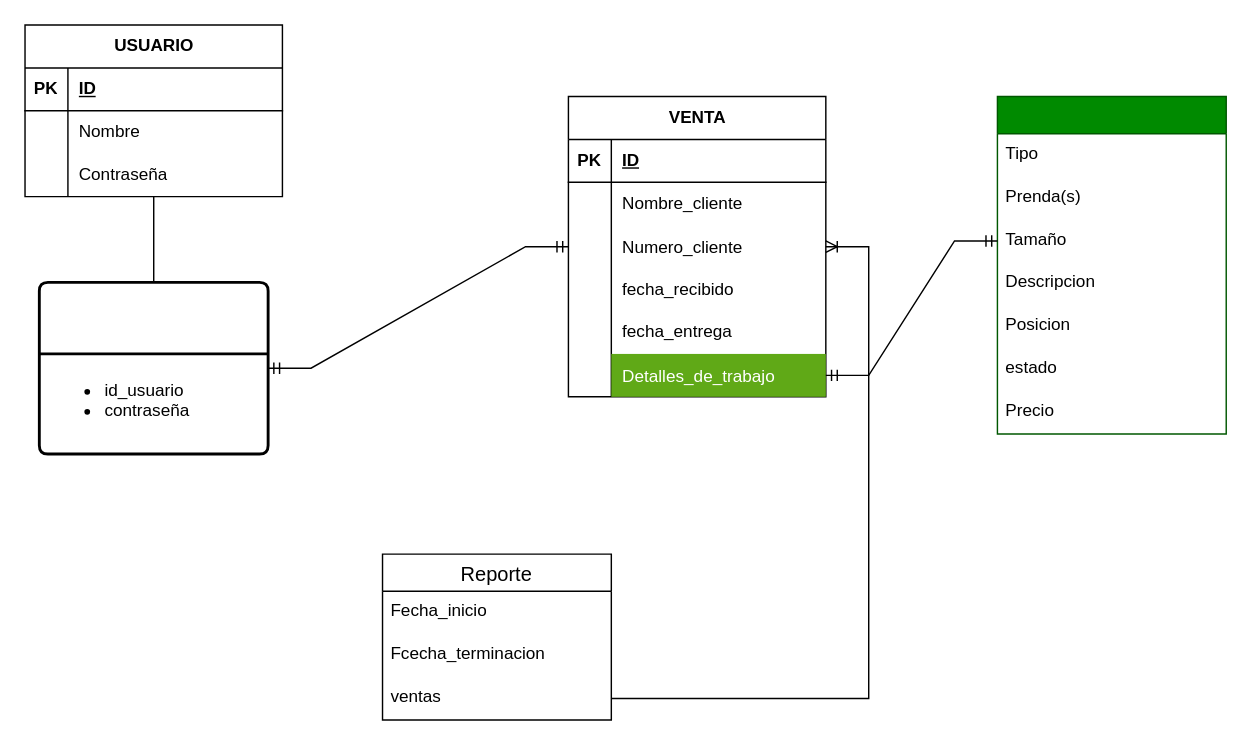
This 1251x749 diagram has some shape labels left out. Each missing label, with the box of its shape:
Login: (37, 280, 269, 455)
trabajo: (996, 95, 1226, 434)
